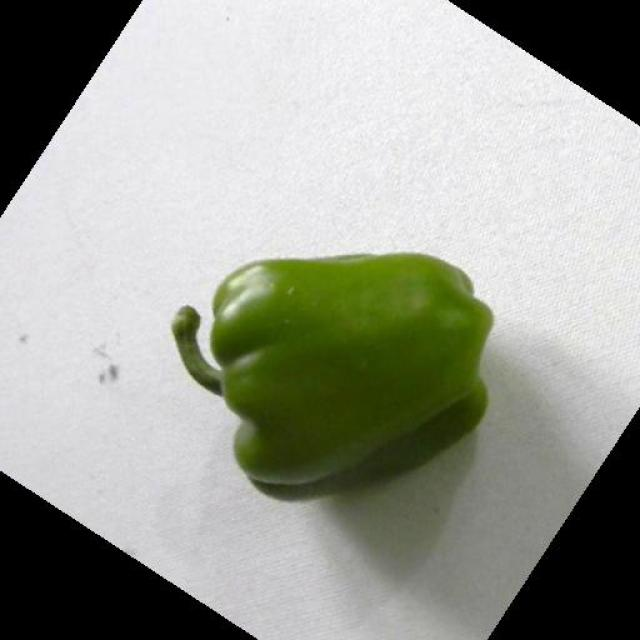Fresh_Capsicum: (195, 267, 495, 474)
